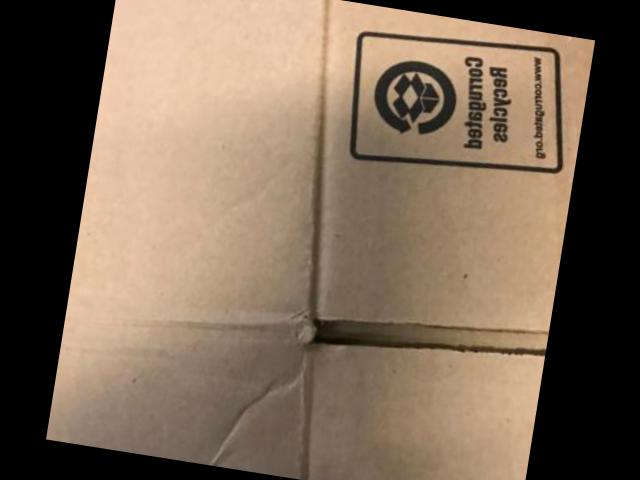cardboard paper: (45, 0, 595, 480)
